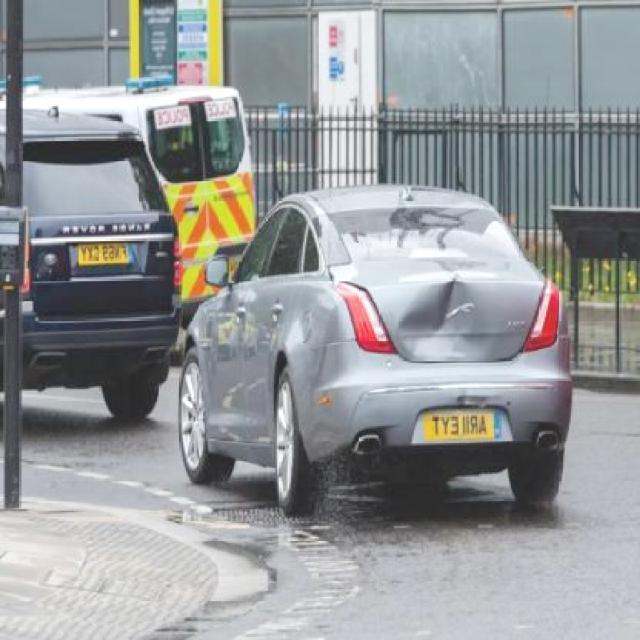minor: (397, 280, 480, 360)
